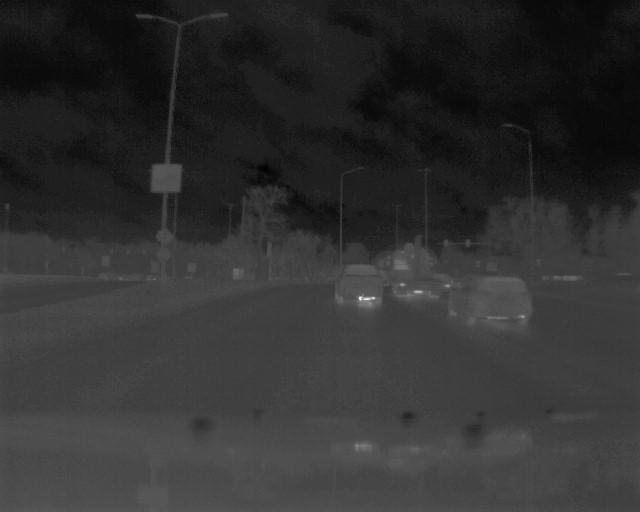car: (445, 275, 537, 325), (388, 241, 452, 300), (331, 263, 383, 305)
